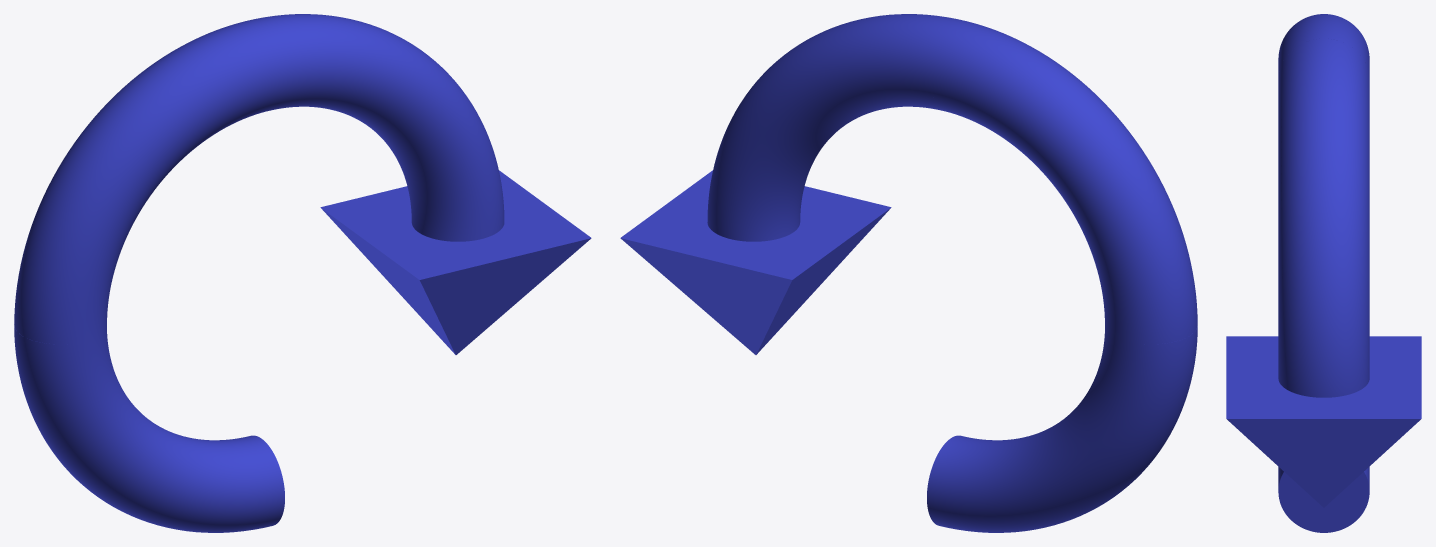
File: arrowLoop.fbx
The picture shows the model from 3 angles, left to right: view 1: azimuth 30°, elevation 25°; view 2: azimuth 150°, elevation 25°; view 3: azimuth 270°, elevation 25°; orthographic projection.
Parts seen in each view (by area): view 1: root (×4); view 2: root (×4); view 3: root (×4).
Boxes of the visible parts, box(x1,y1,x2,y2) form: root (×4): box(14, 14, 591, 532); root (×4): box(620, 14, 1197, 532); root (×4): box(1226, 14, 1421, 532).
Size of the model in its own units: 0.768 by 0.7033 by 0.2535.
